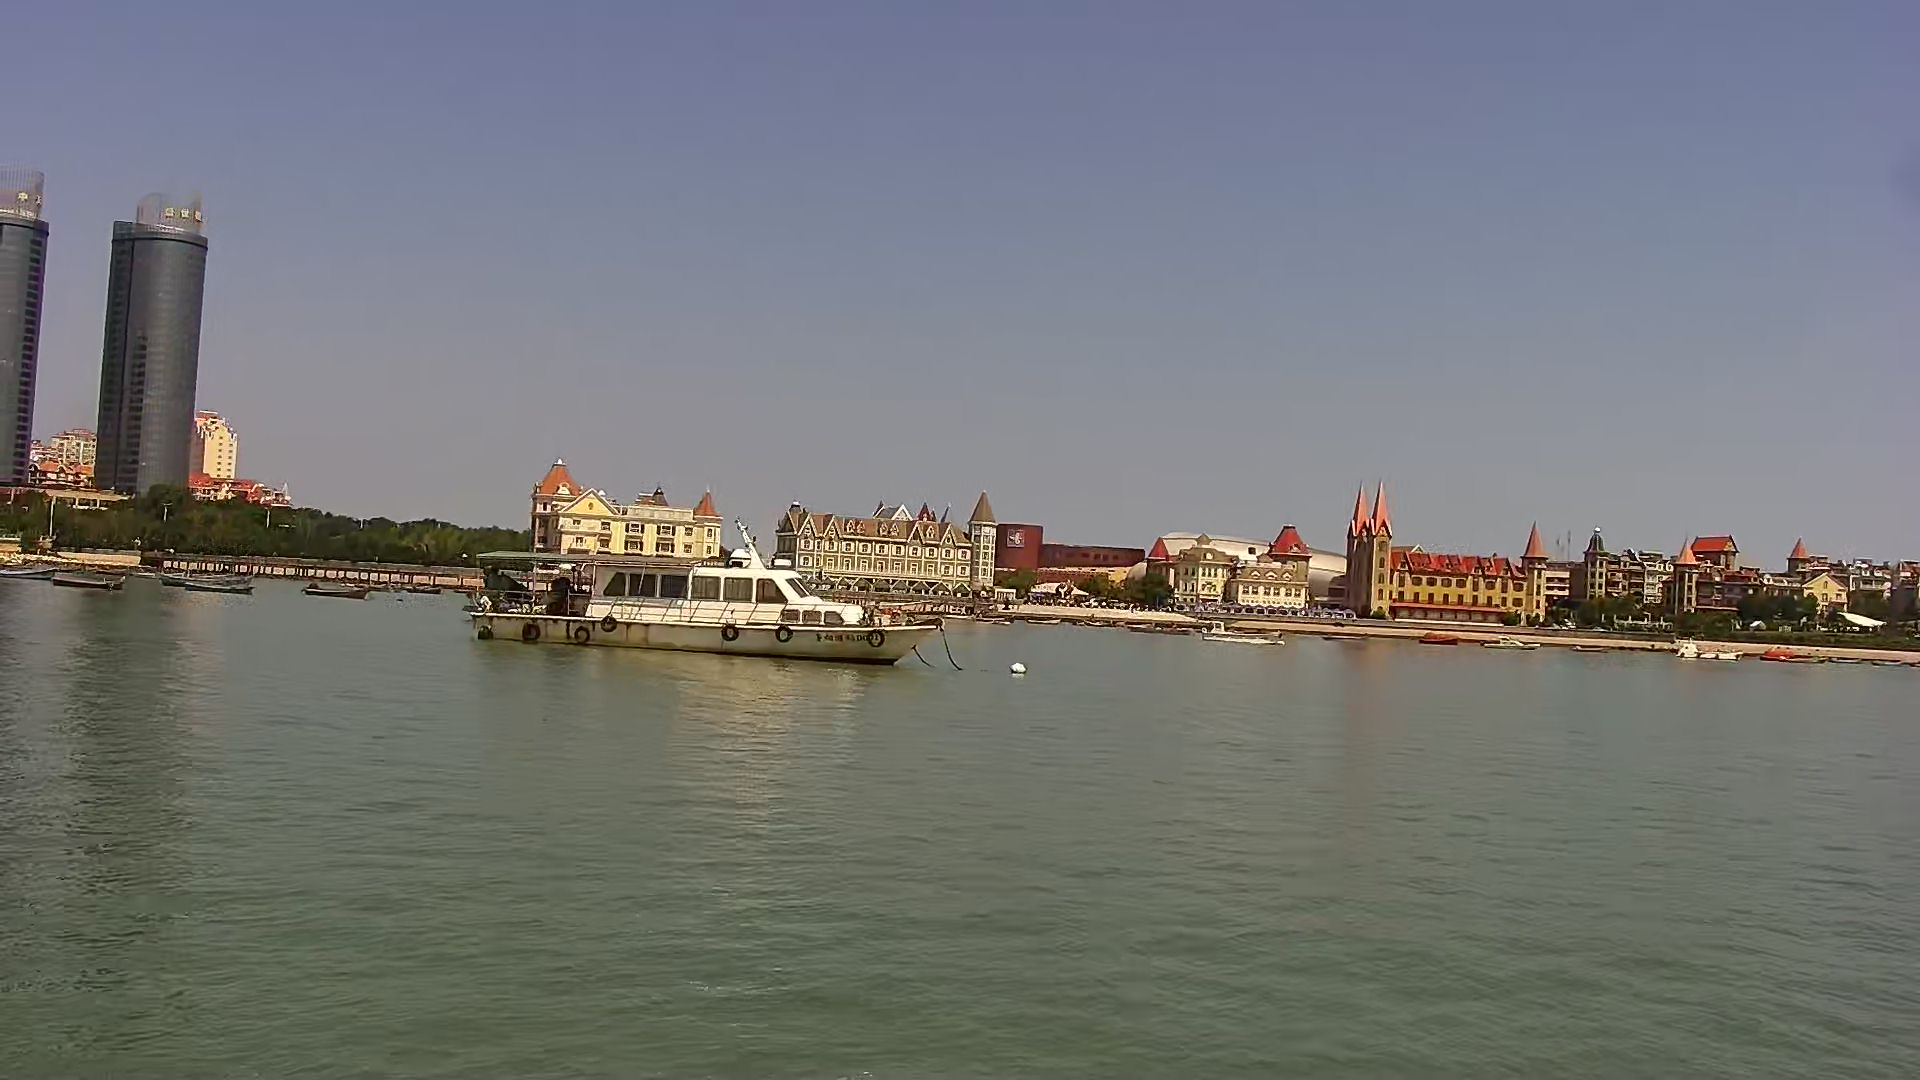boat: (49, 560, 127, 603), (160, 567, 258, 597), (299, 583, 375, 608)
ship: (469, 524, 934, 669)
